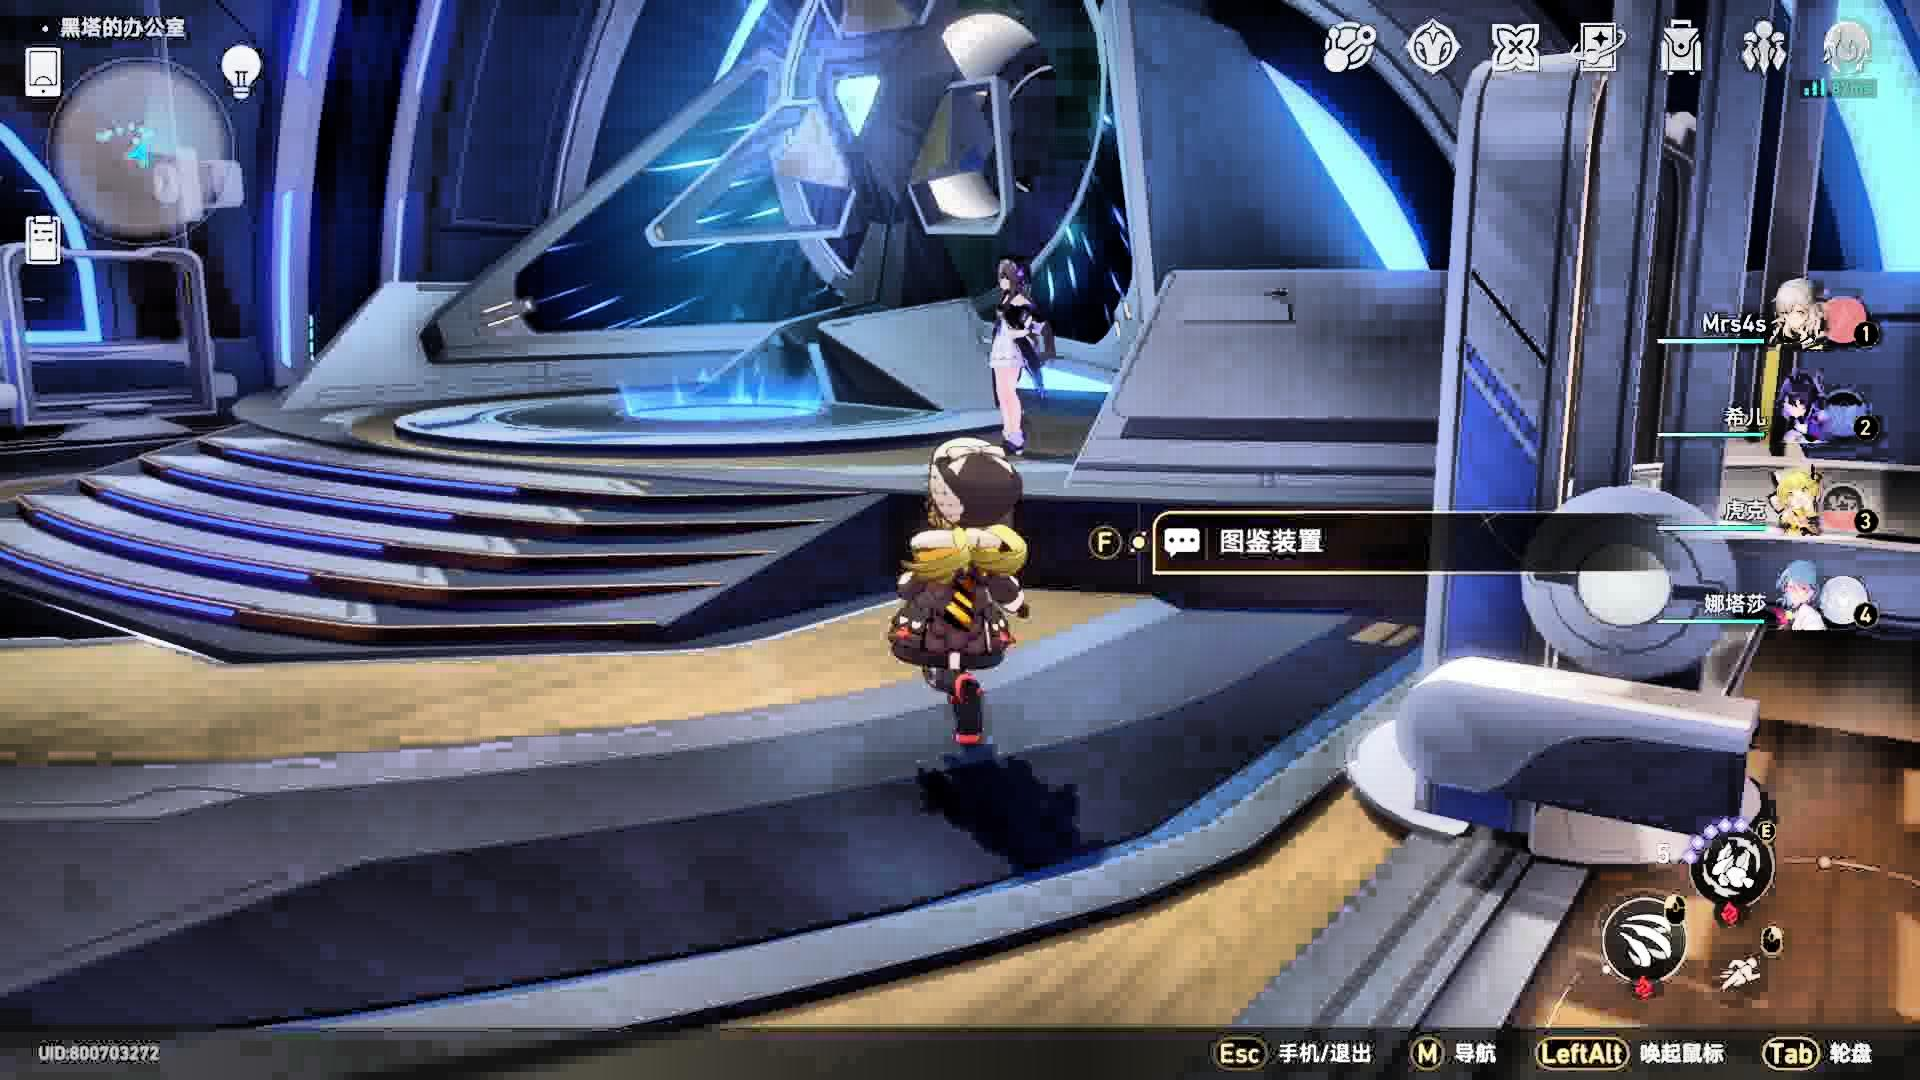Self: (886, 435, 1033, 746)
TeamMate: (978, 252, 1047, 456)
